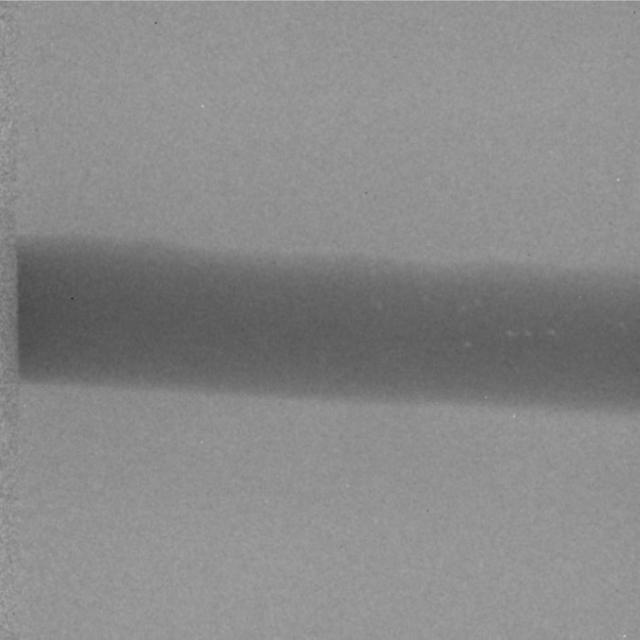air hole: (546, 325, 558, 338), (462, 337, 474, 349), (505, 325, 516, 337), (523, 327, 534, 337), (617, 318, 626, 329)
